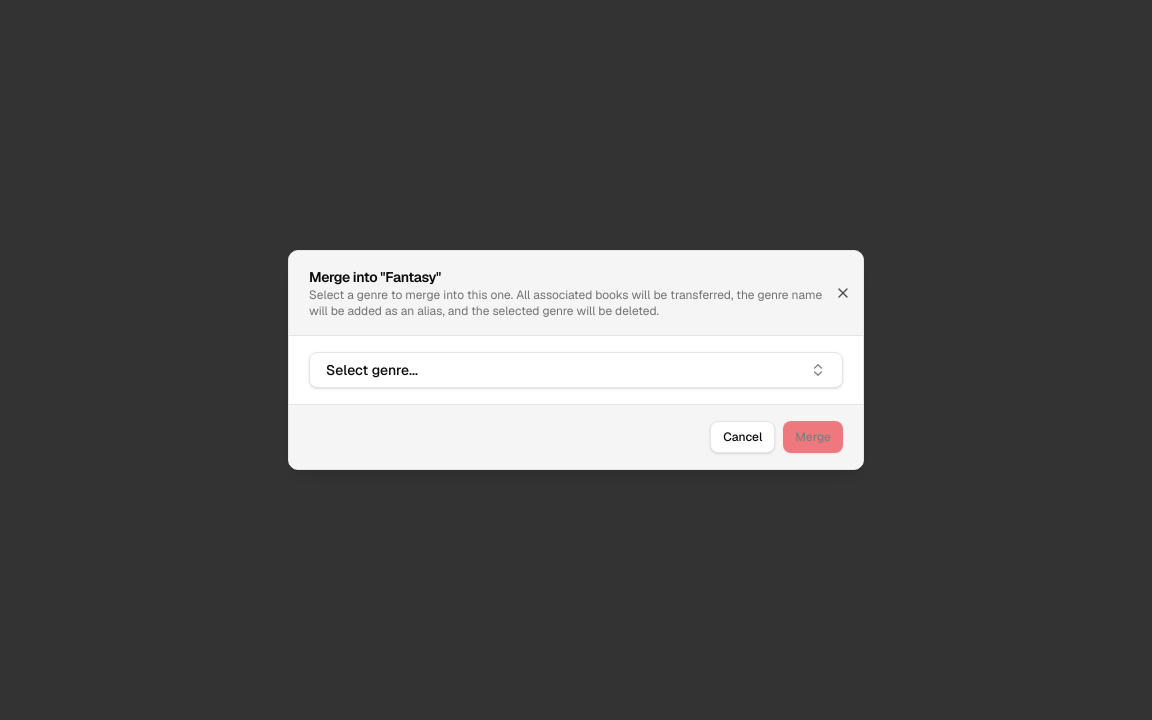
Test: MetadataMergeDialog failures › shows each source's count text in the list, on the picker, and in the merge sentence
Click the dropdown named "Genre to merge".
click(372, 370)  # box [309,352,843,388]
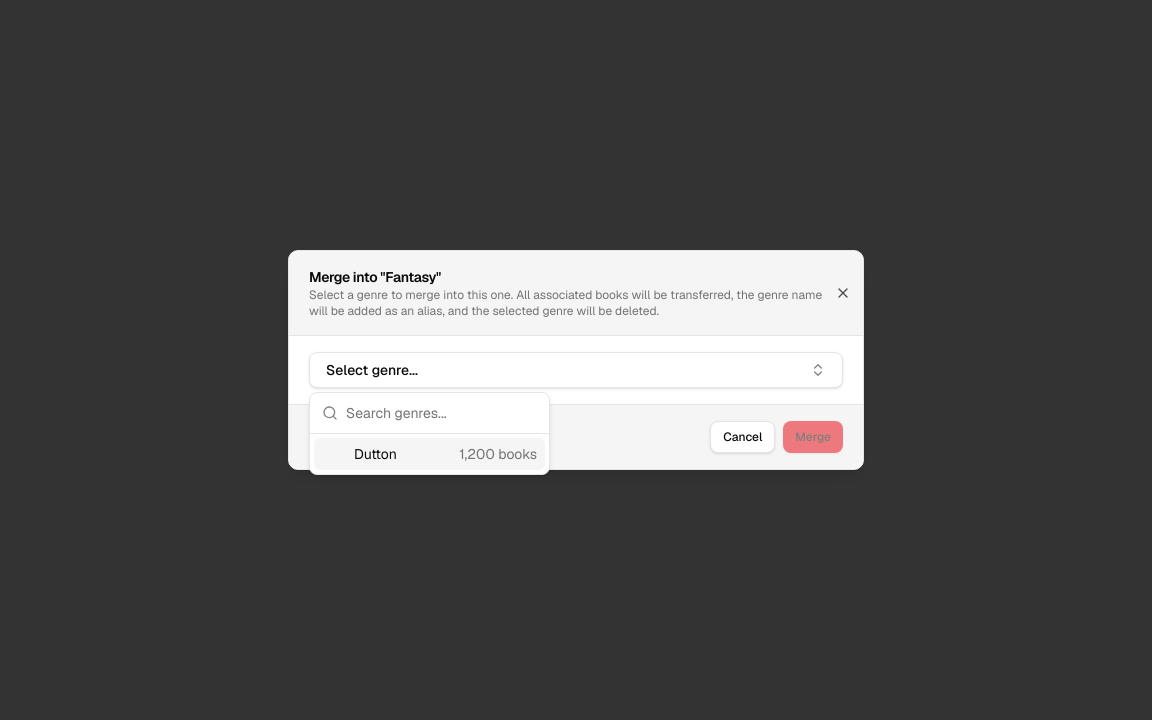
Now the option "Dutton 1,200 books" is shown
Click the option "Dutton 1,200 books".
click(430, 454)  # box [314,438,545,470]
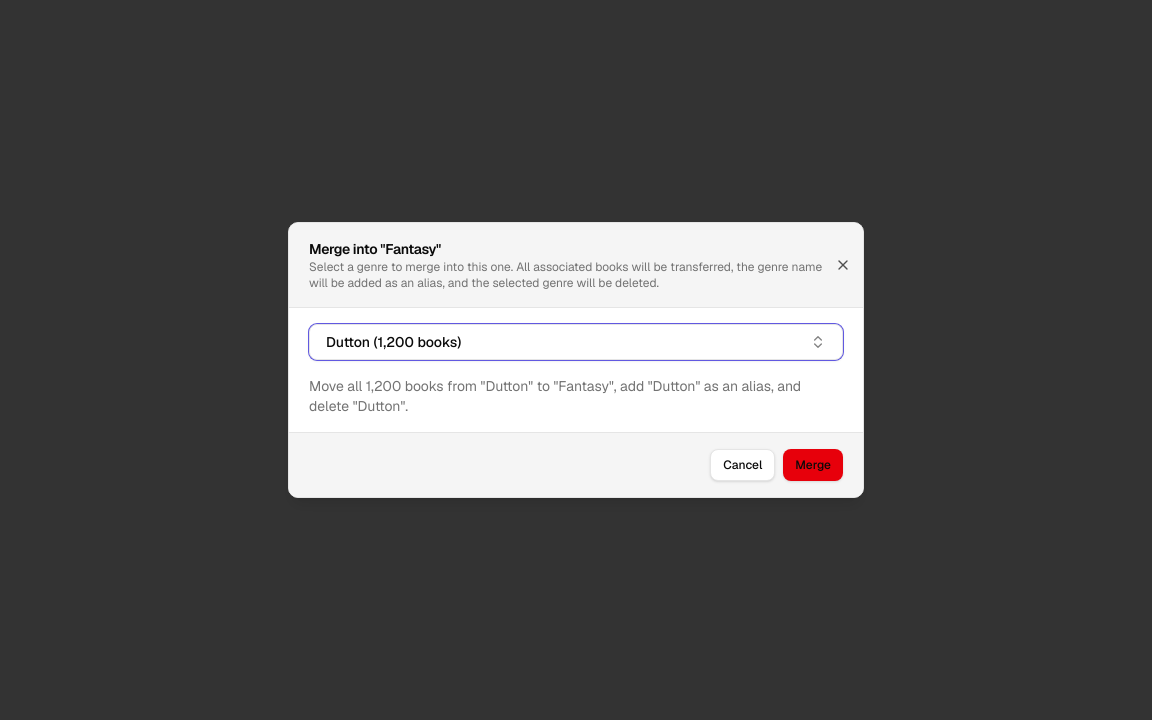
Now the dropdown named "Genre to merge" reads "Dutton (1,200 books)", box [309,324,843,360]
Now the text "Move all 1,200 books from" is shown, box [309,376,843,416]
